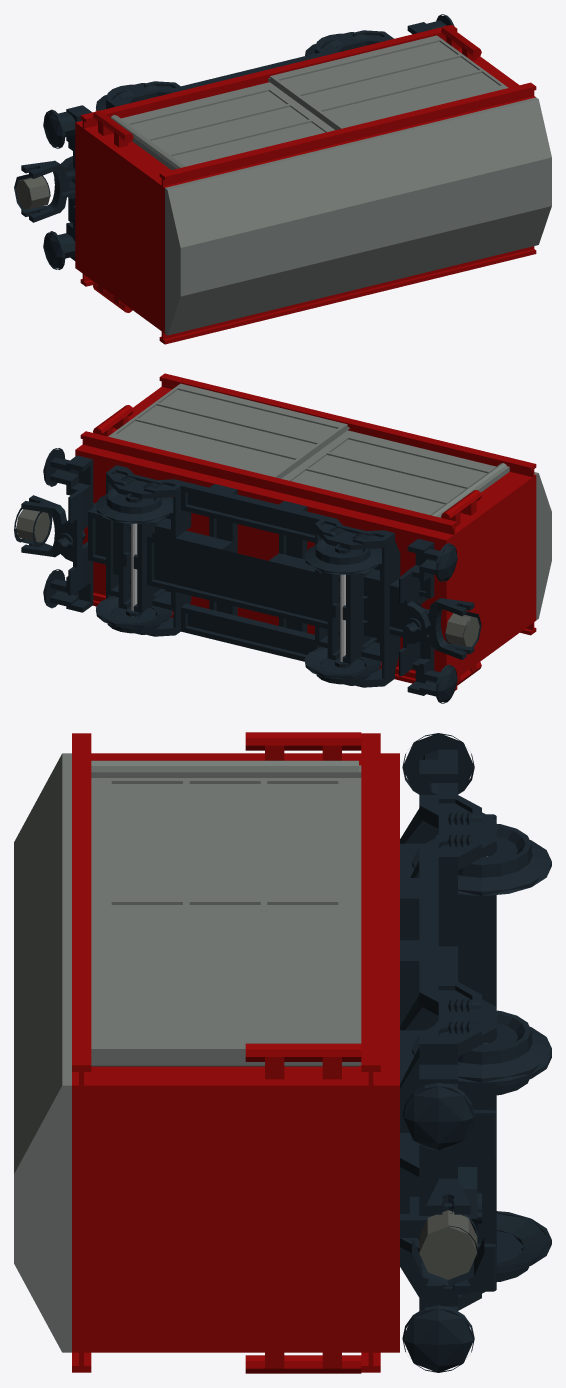
File: wagon-3.glb
3 renders of one model, top to bottom at view 1: azimuth 30°, elevation 25°; view 2: azimuth 150°, elevation 25°; view 3: azimuth 270°, elevation 25°, orthographic. The views are drawn at different scales.
Bounding box in the file's own units: 157 × 60.27 × 89.2.
